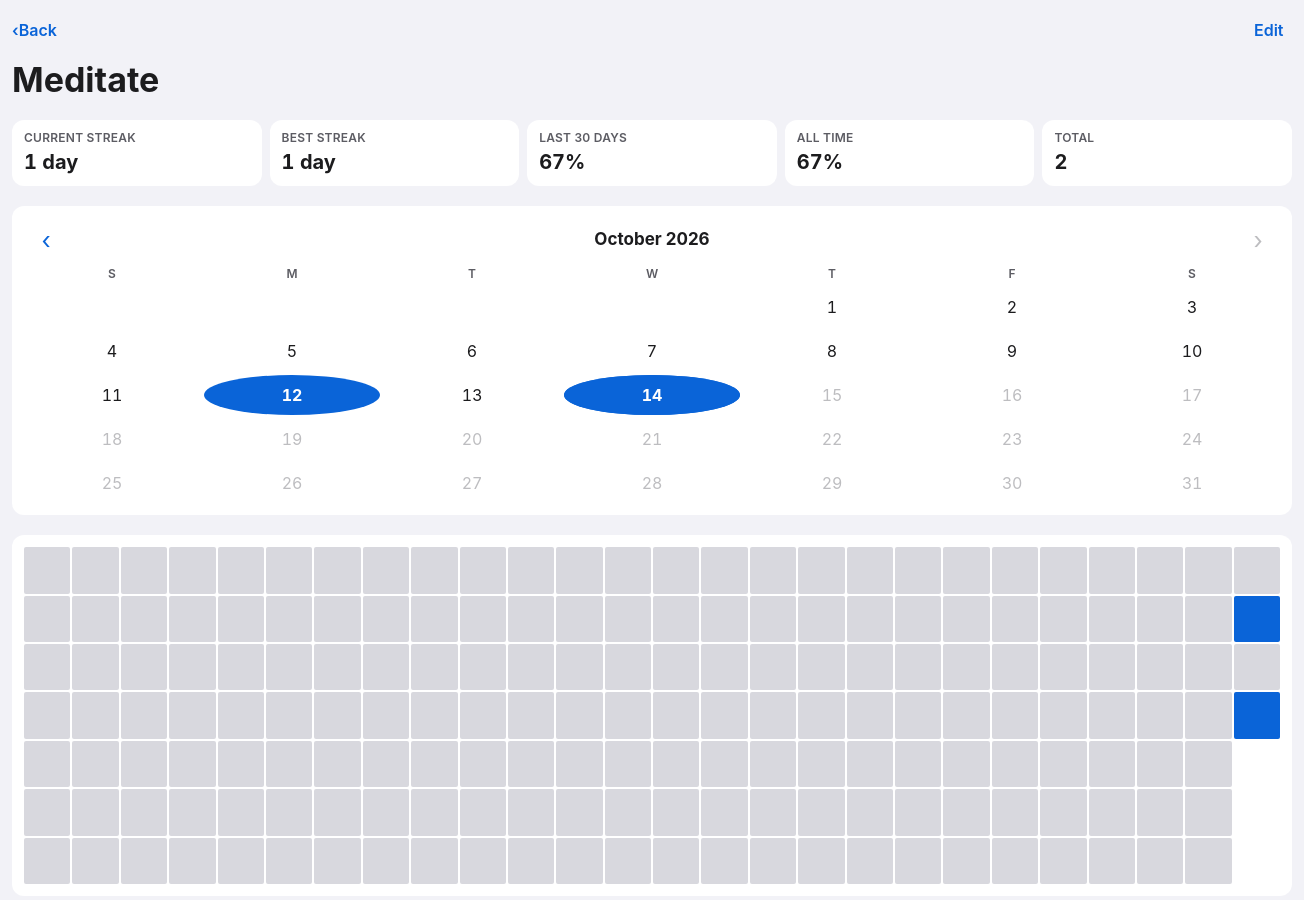
Test: calendar backfill › fixes a missed day, updating the streak and storage
This screenshot has width=1304, height=900.
Click the button named "October 13, not done" at (472, 395), box [384, 375, 560, 415]
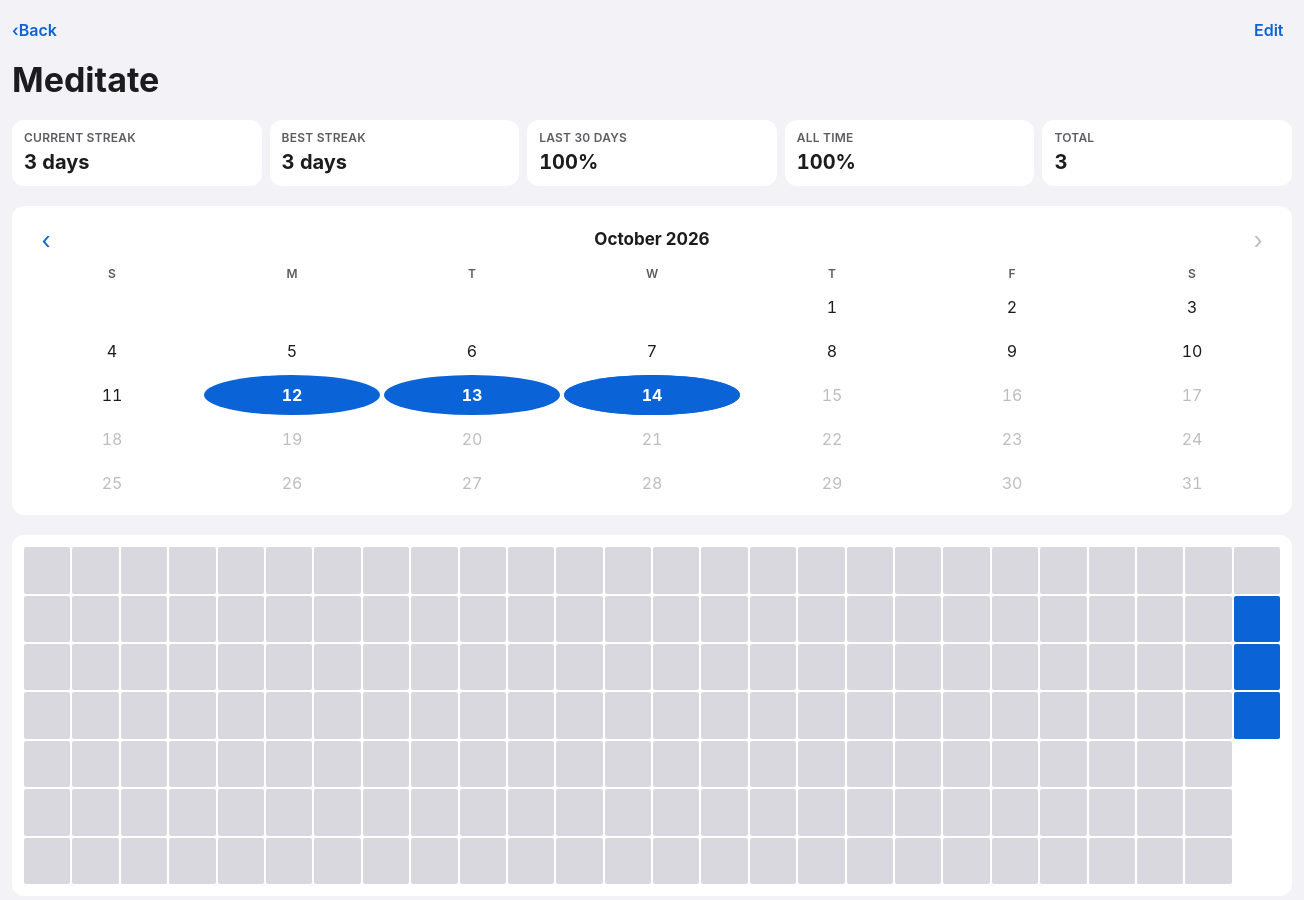
Expected: the text "3 days" below "Current streak" is shown, [24, 150, 89, 174]
